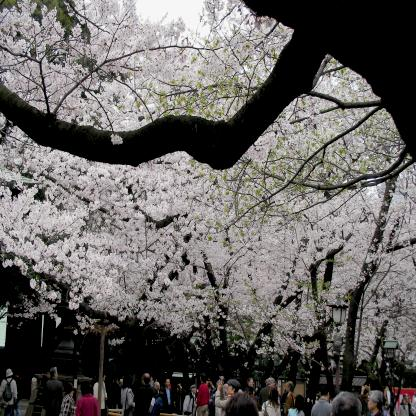Someiyoshino: (2, 0, 415, 354)
